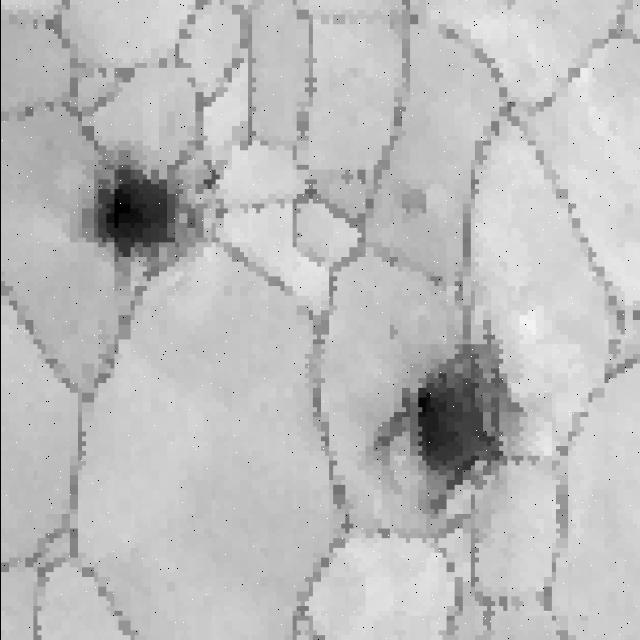good_void: (362, 314, 522, 532), (55, 142, 207, 301), (391, 185, 429, 218), (191, 167, 222, 189), (382, 318, 402, 344)
